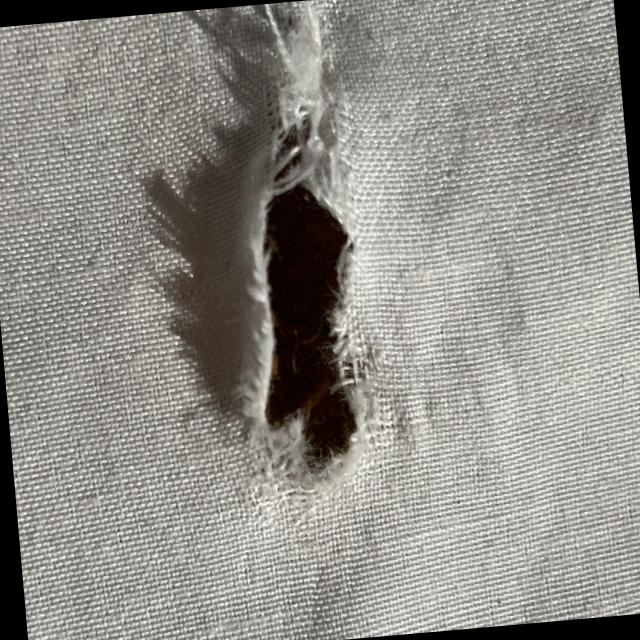hole: (212, 24, 378, 495)
